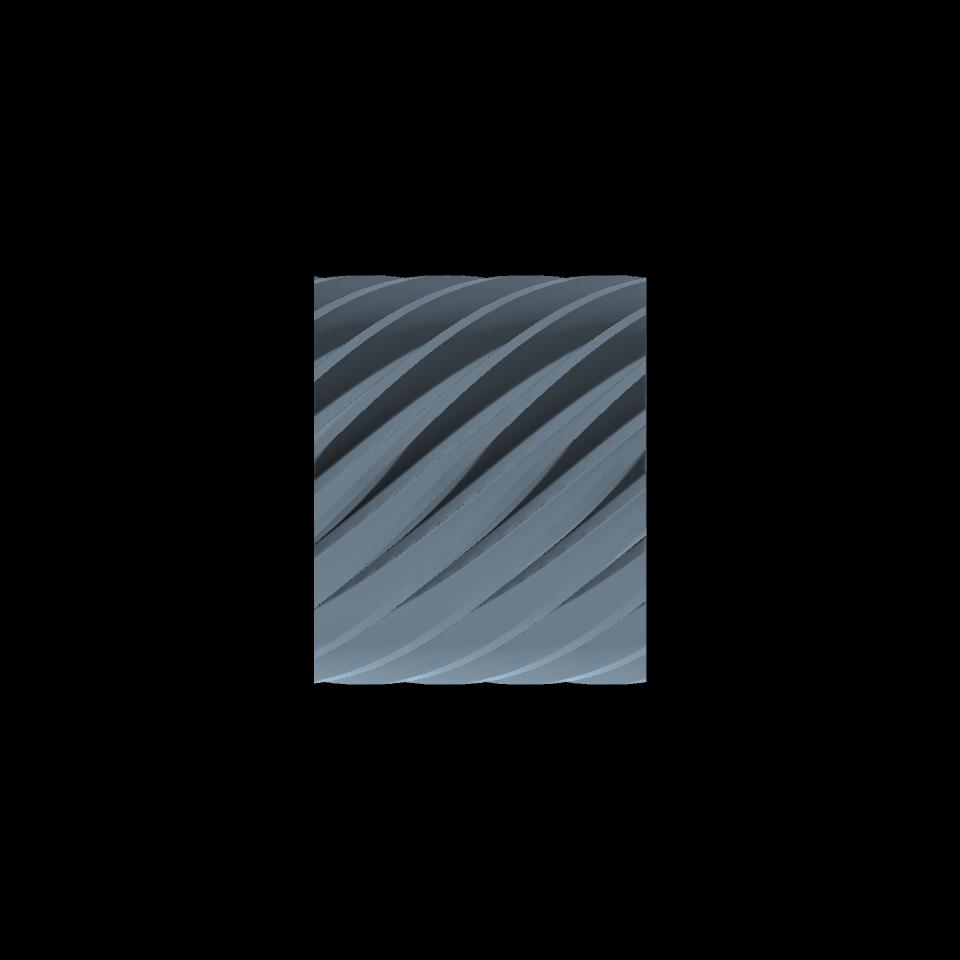Helical: (314, 275, 646, 683)
